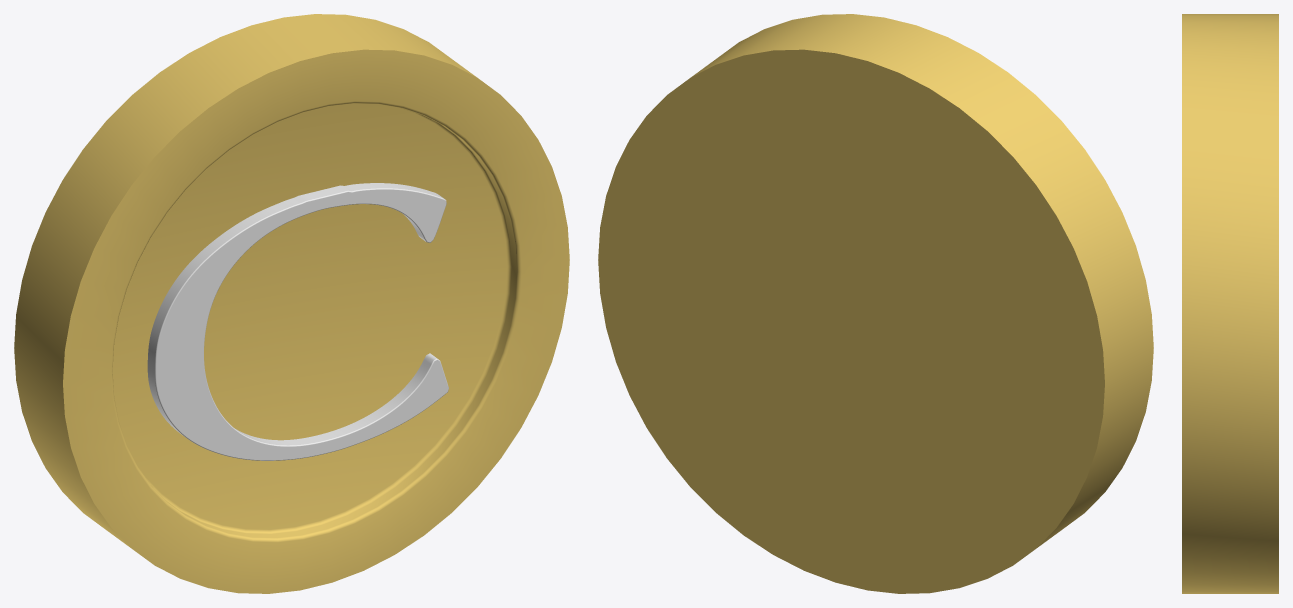
The model's file is Coin_2.glb.
3 renders of one model, left to right at view 1: azimuth 30°, elevation 25°; view 2: azimuth 150°, elevation 25°; view 3: azimuth 270°, elevation 25°, orthographic.
Parts seen in each view (by area): view 1: Coin_, C; view 2: Coin_; view 3: Coin_.
Boxes of the visible parts, x1,y1,x2,y2 form: Coin_: [14, 14, 569, 593]; C: [147, 183, 448, 460]; Coin_: [598, 14, 1153, 593]; Coin_: [1182, 14, 1278, 593].
Size of the model in its own units: 120 by 120 by 20.
